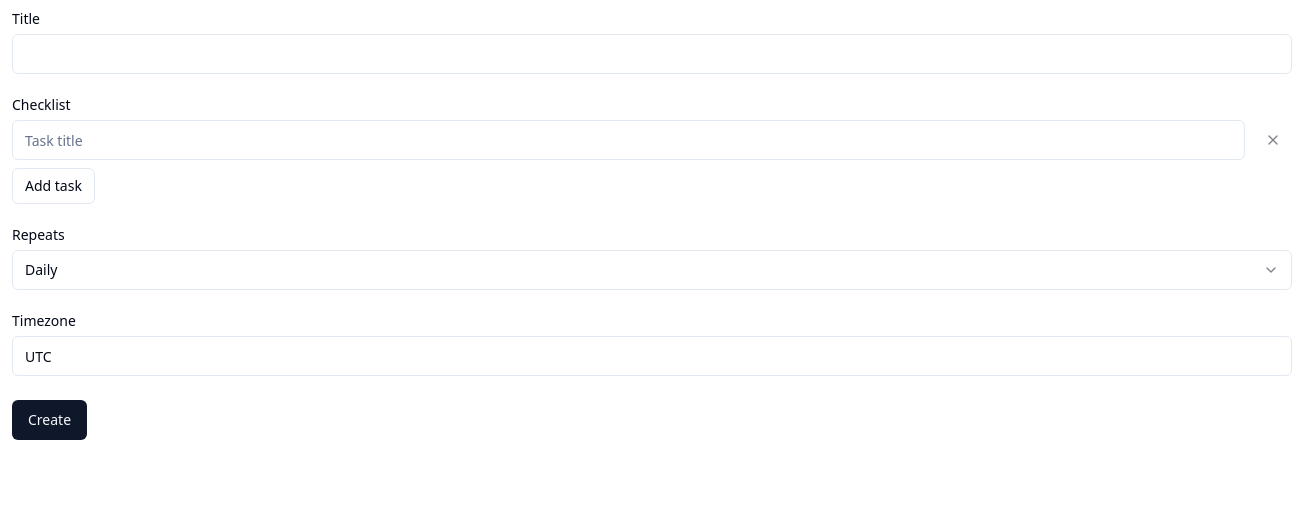
Test: TemplateForm › adds and removes task title rows
The image size is (1304, 505).
Expected: the number of fields with placeholder "Task title" is 1, [12,120,1246,160]
Click the button "Add task": click(53, 186) [12,168,95,204]
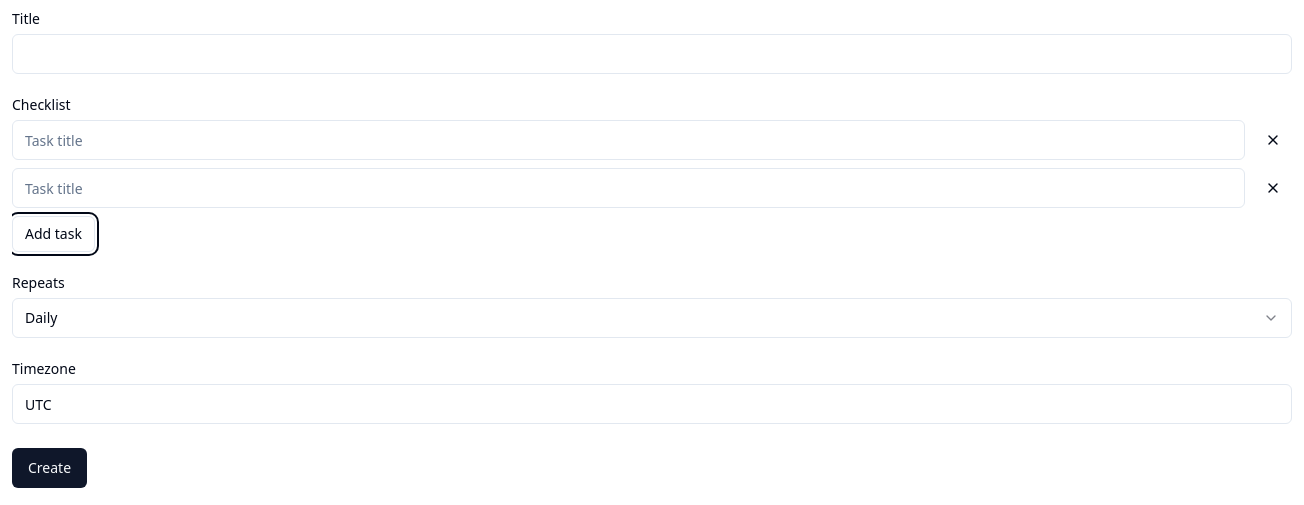
Expected: the number of fields with placeholder "Task title" is 2, [12,120,1246,160]; [12,168,1246,208]
Click the 1st button named "Remove task": click(1273, 140) [1254,120,1292,160]
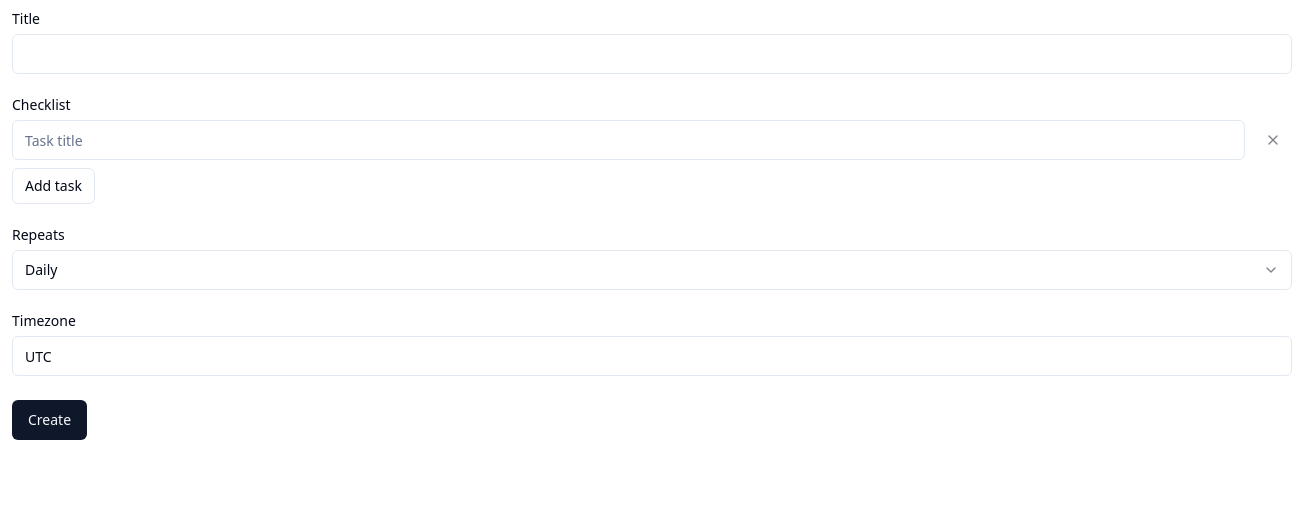
Expected: the number of fields with placeholder "Task title" is 1, [12,120,1246,160]
